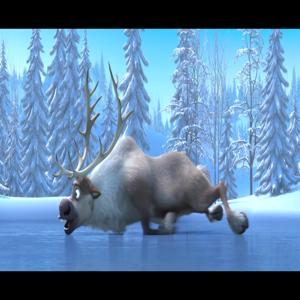sven: (58, 97, 253, 245)
